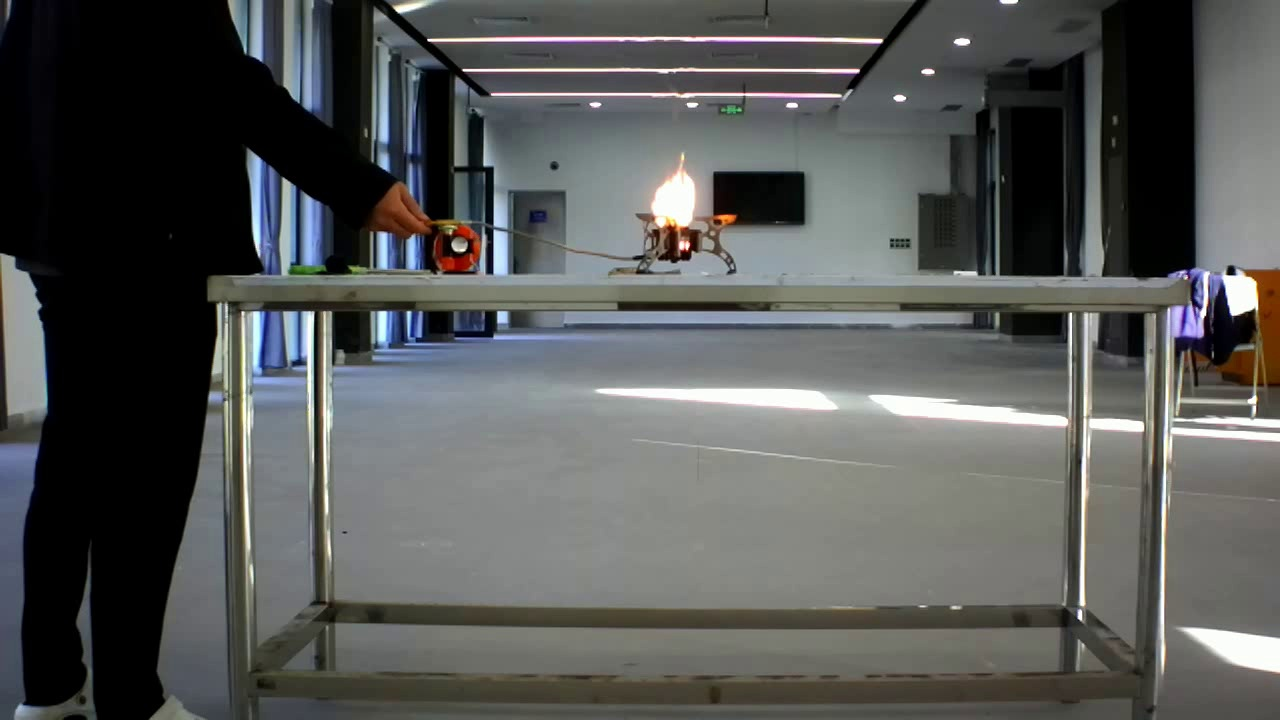Fire: (639, 138, 744, 263)
